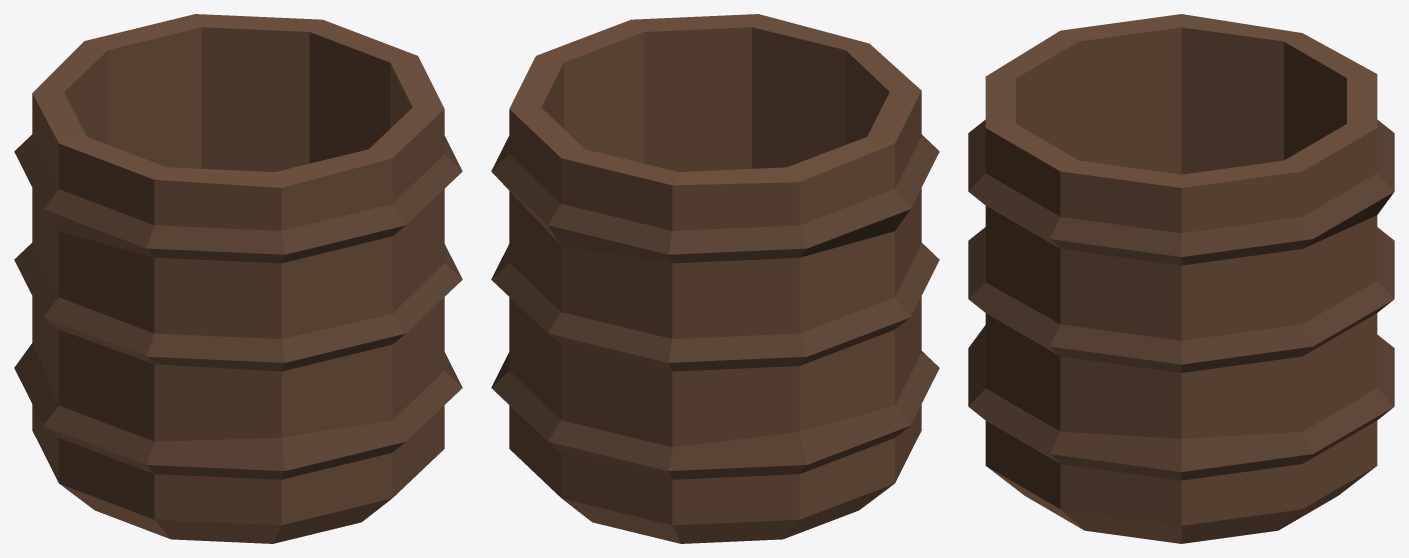
Rendered from SM_Prop_Rusted_Barrel_01.fbx.
3 renders of one model, left to right at view 1: azimuth 30°, elevation 25°; view 2: azimuth 150°, elevation 25°; view 3: azimuth 270°, elevation 25°, orthographic.
Visible parts, largest first — view 1: SM_Prop_Rusted_Barrel_01; view 2: SM_Prop_Rusted_Barrel_01; view 3: SM_Prop_Rusted_Barrel_01.
Part boxes in pixels (x1,y1,x2,y2): SM_Prop_Rusted_Barrel_01: (14,14,462,543); SM_Prop_Rusted_Barrel_01: (491,14,939,543); SM_Prop_Rusted_Barrel_01: (968,14,1394,543).
Bounding box in the file's own units: 73.81 × 67.84 × 70.2.
